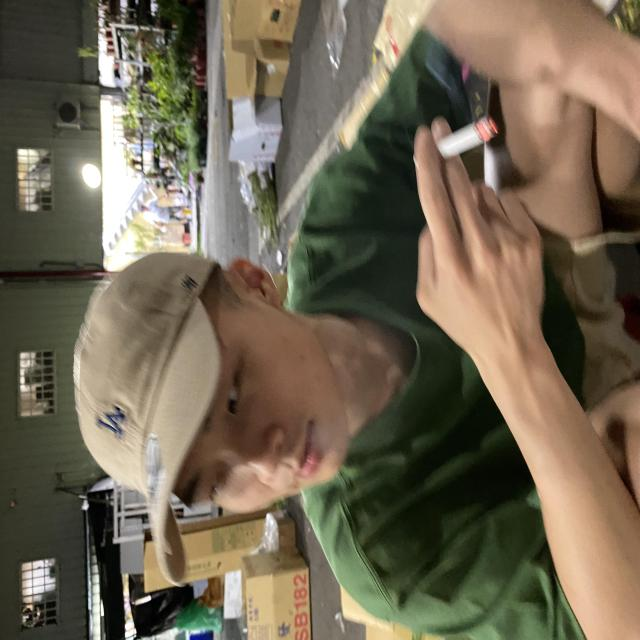cigarette: (393, 107, 512, 179)
